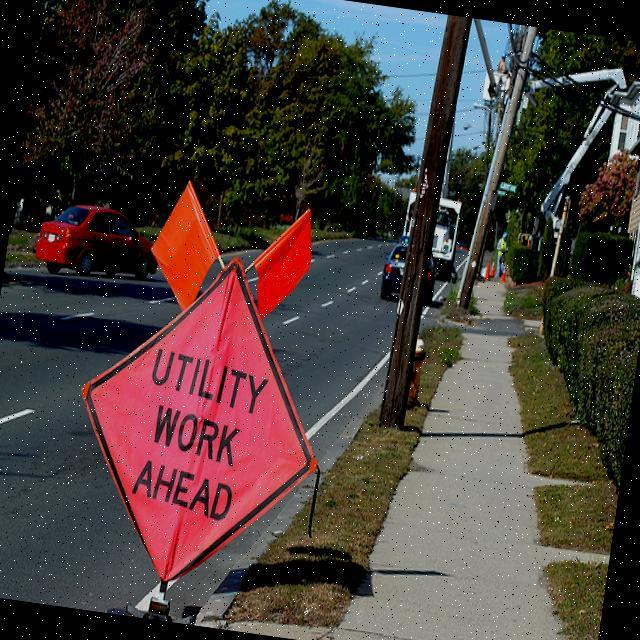fire_hydrant: (406, 332, 429, 408)
